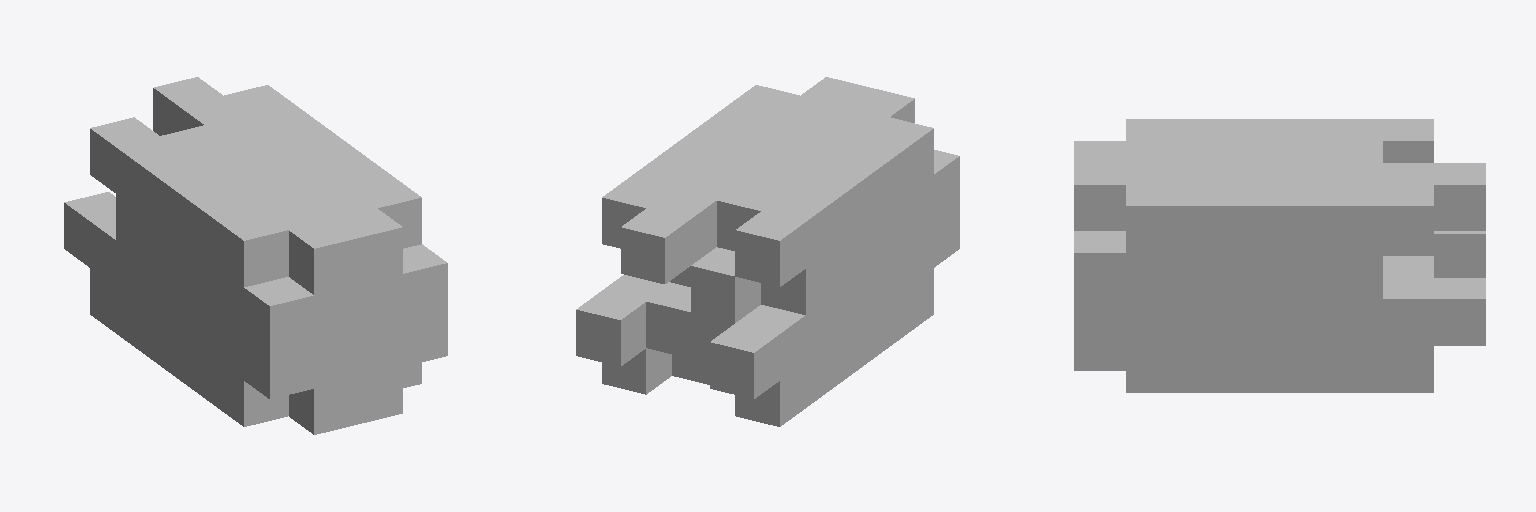
File: Fireball.obj
3 views of the same model, side by side, from view 1: azimuth 30°, elevation 25°; view 2: azimuth 150°, elevation 25°; view 3: azimuth 270°, elevation 25° (orthographic).
Size of the model in its own units: 4 by 4 by 8.